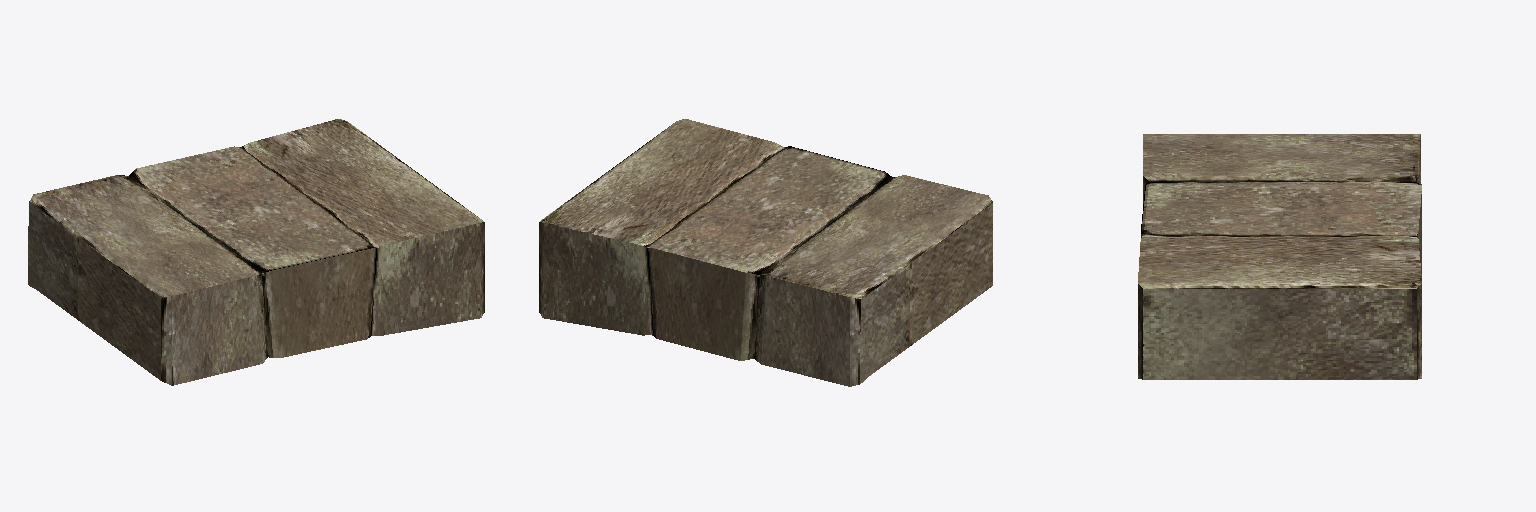
3 views of the same model, side by side, from view 1: azimuth 30°, elevation 25°; view 2: azimuth 150°, elevation 25°; view 3: azimuth 270°, elevation 25° (orthographic).
Visible parts, largest first — view 1: Object001; view 2: Object001; view 3: Object001.
Boxes of the visible parts, <box> form: Object001: <box>28,119,484,385</box>; Object001: <box>539,119,992,386</box>; Object001: <box>1138,134,1421,379</box>.
Bounding box in the file's own units: 0.9933 × 0.2832 × 0.7644.
1 materials, 1 textured.